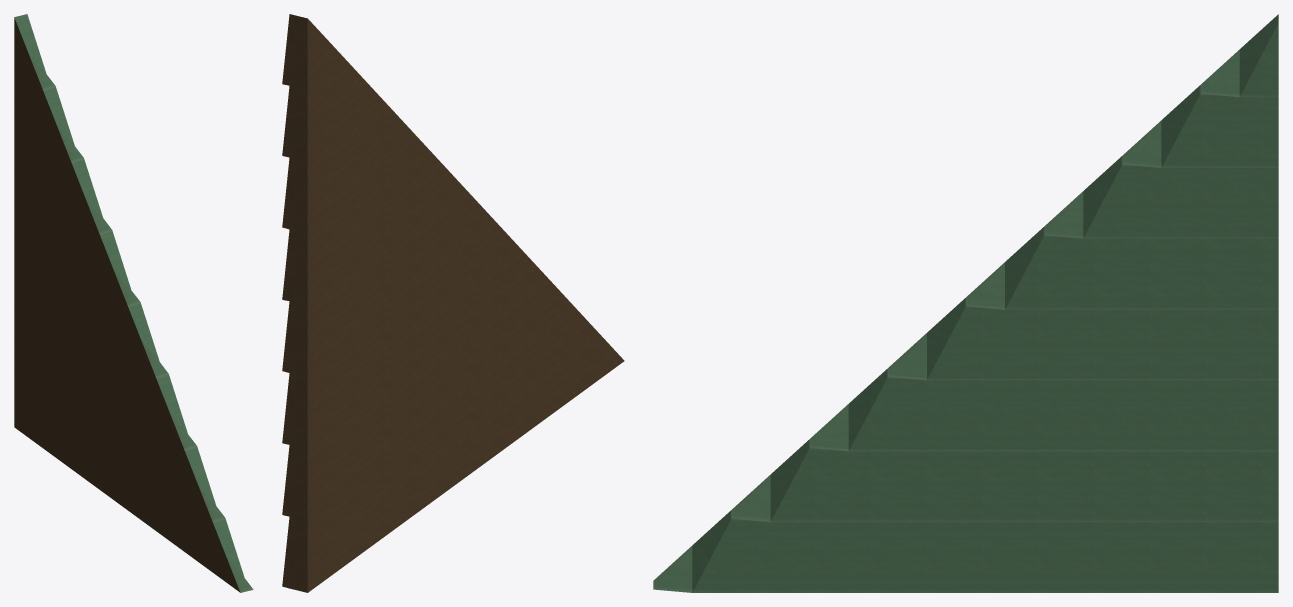
File: 45RSlopeWall.fbx
3 views of the same model, side by side, from view 1: azimuth 30°, elevation 25°; view 2: azimuth 150°, elevation 25°; view 3: azimuth 270°, elevation 25° (orthographic). The views are drawn at different scales.
Parts seen in each view (by area): view 1: 45RSlopeWall; view 2: 45RSlopeWall; view 3: 45RSlopeWall.
Boxes of the visible parts, <box> form: 45RSlopeWall: <box>14,14,253,592</box>; 45RSlopeWall: <box>282,14,624,592</box>; 45RSlopeWall: <box>653,14,1278,592</box>.
Bounding box in the file's own units: 14.77 × 316 × 316.
